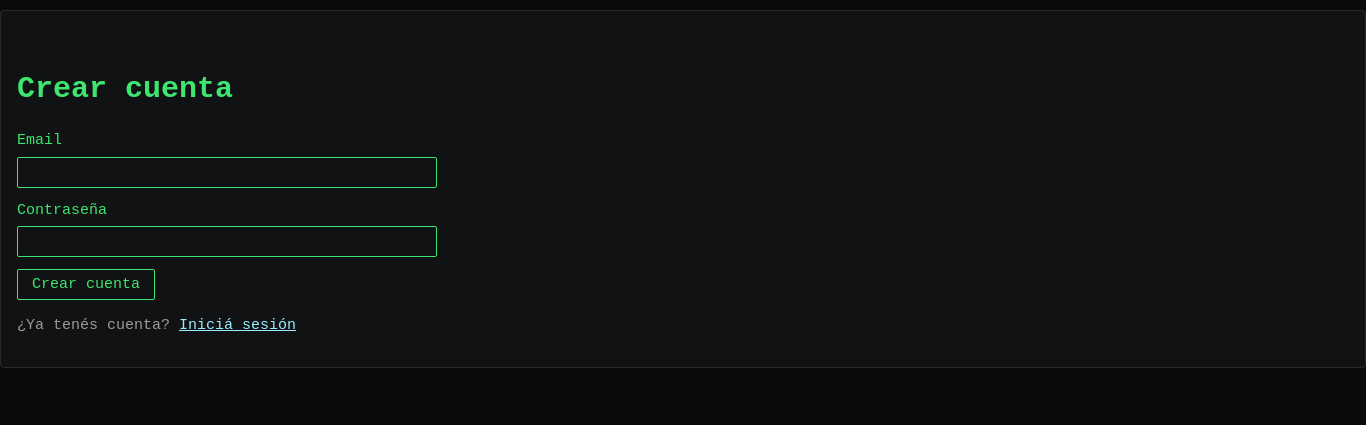
RegisterPage › shows_the_backends_409_message_when_the_email_is_already_registered
The width and height of the screenshot is (1366, 425).
Type "ana@example.com" into the field labelled "Email". click: (227, 172)
box: [17,156,437,188]
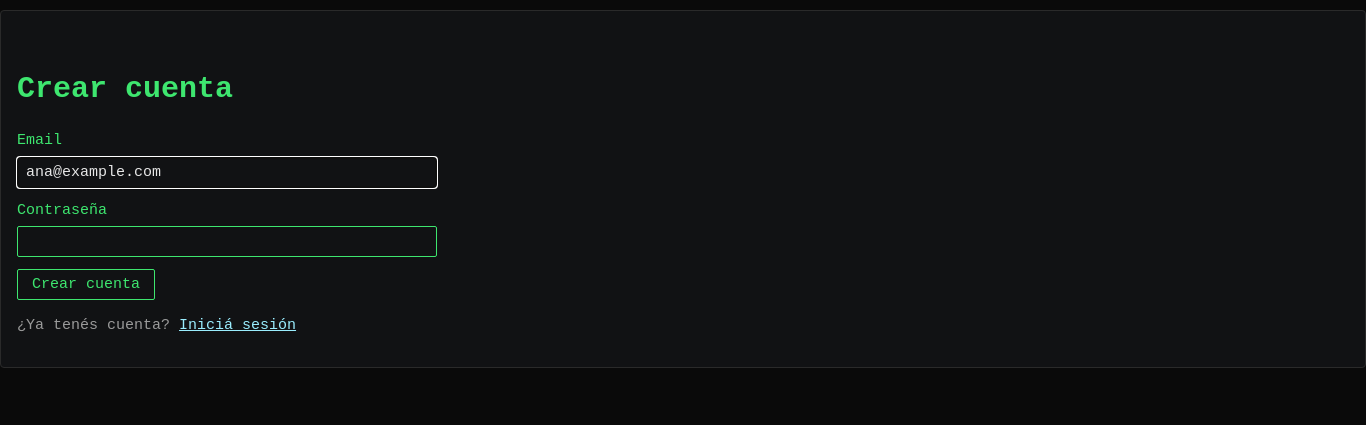
Type "correct-horse-battery-staple" into the password field labelled "Contraseña". click: (227, 242)
box: [17,226,437,257]
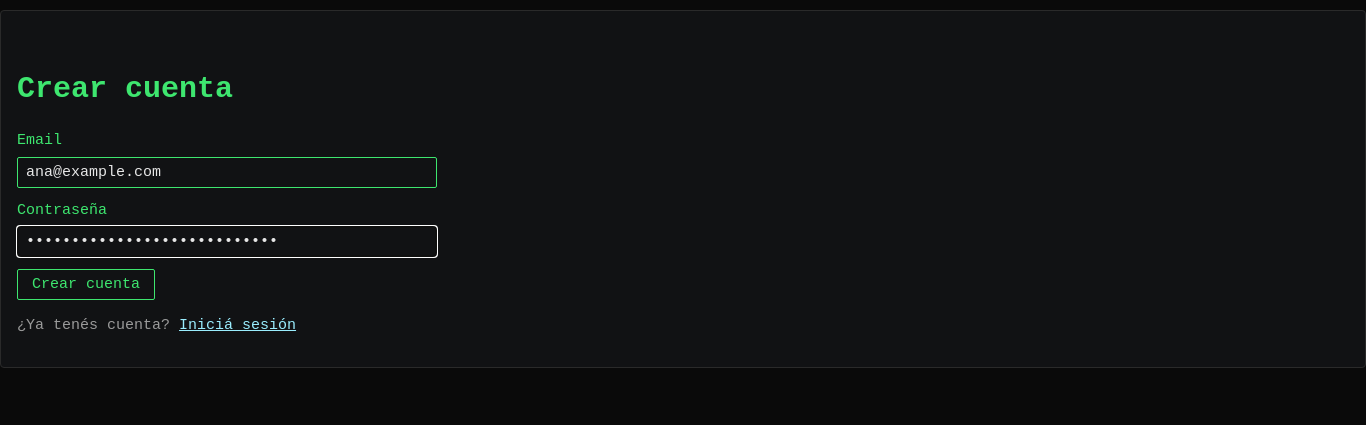
Click the button "Crear cuenta". click: (86, 284)
box: [17,269,155,300]
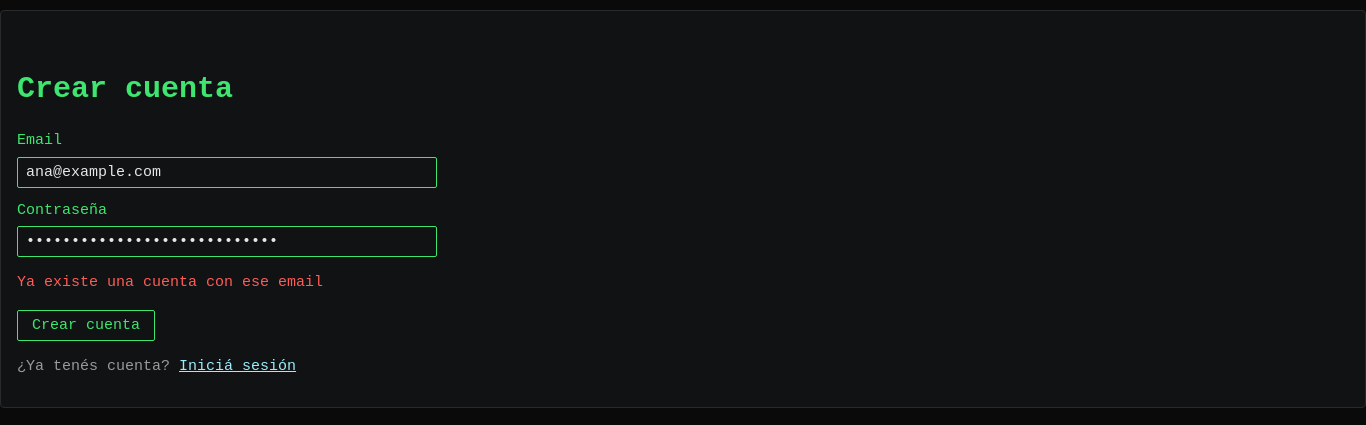
Expected: the button "Crear cuenta" is enabled, [17,310,155,340]
Result: the message reads "Ya existe una cuenta con ese email" at [17,274,323,291]
